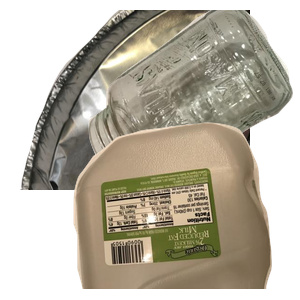glass: (86, 10, 300, 184)
metal: (18, 10, 258, 190)
plastic: (71, 120, 300, 300)
trash: (120, 131, 290, 300)
